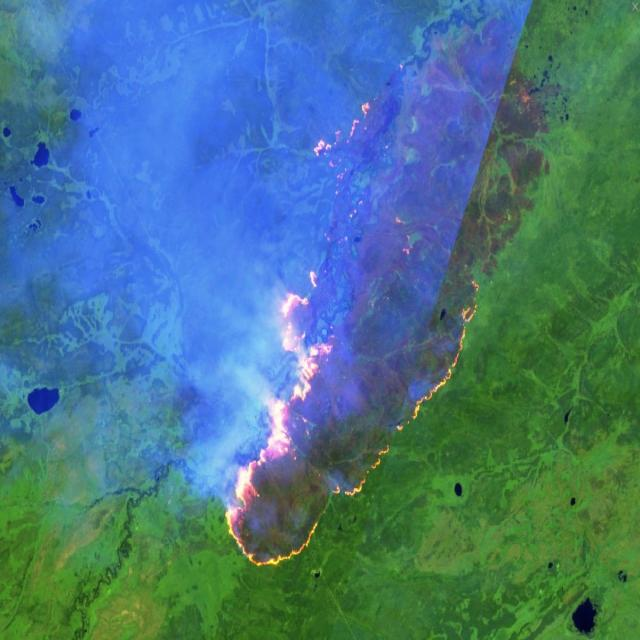fire: (218, 53, 487, 576)
